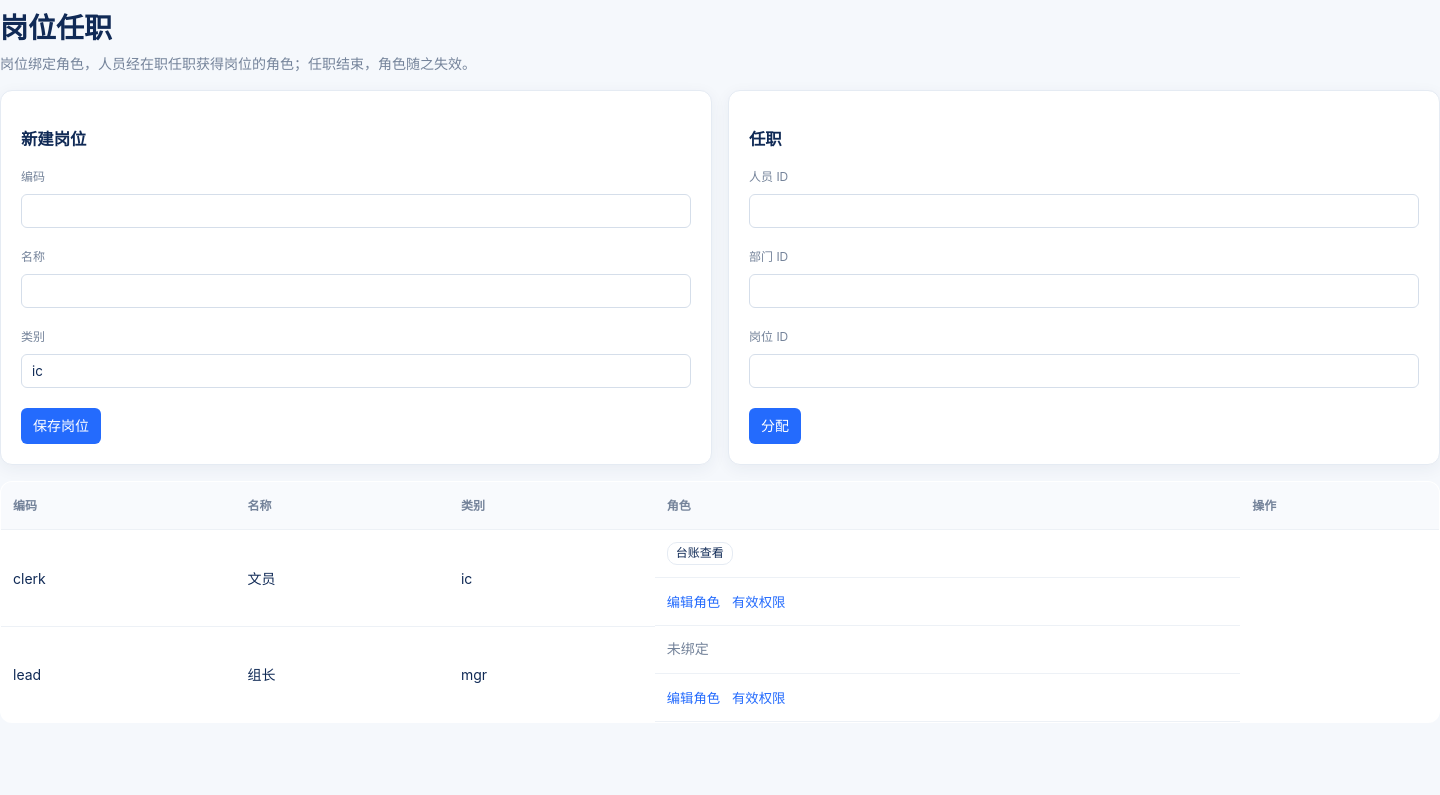
Test: PLA2 position ↔ role binding › shows each position's roles and replaces them from the editor
The image size is (1440, 795).
Expected: the row with test id "position-pos-1" shows "台账查看", [676,545,724,560]
Expected: the row with test id "position-pos-2" shows "未绑定", [667,640,709,657]
Step 1. Click the button "编辑角色" below "ic" → {"x": 693, "y": 602}, box [667,590,720,613]
(page scrolled)
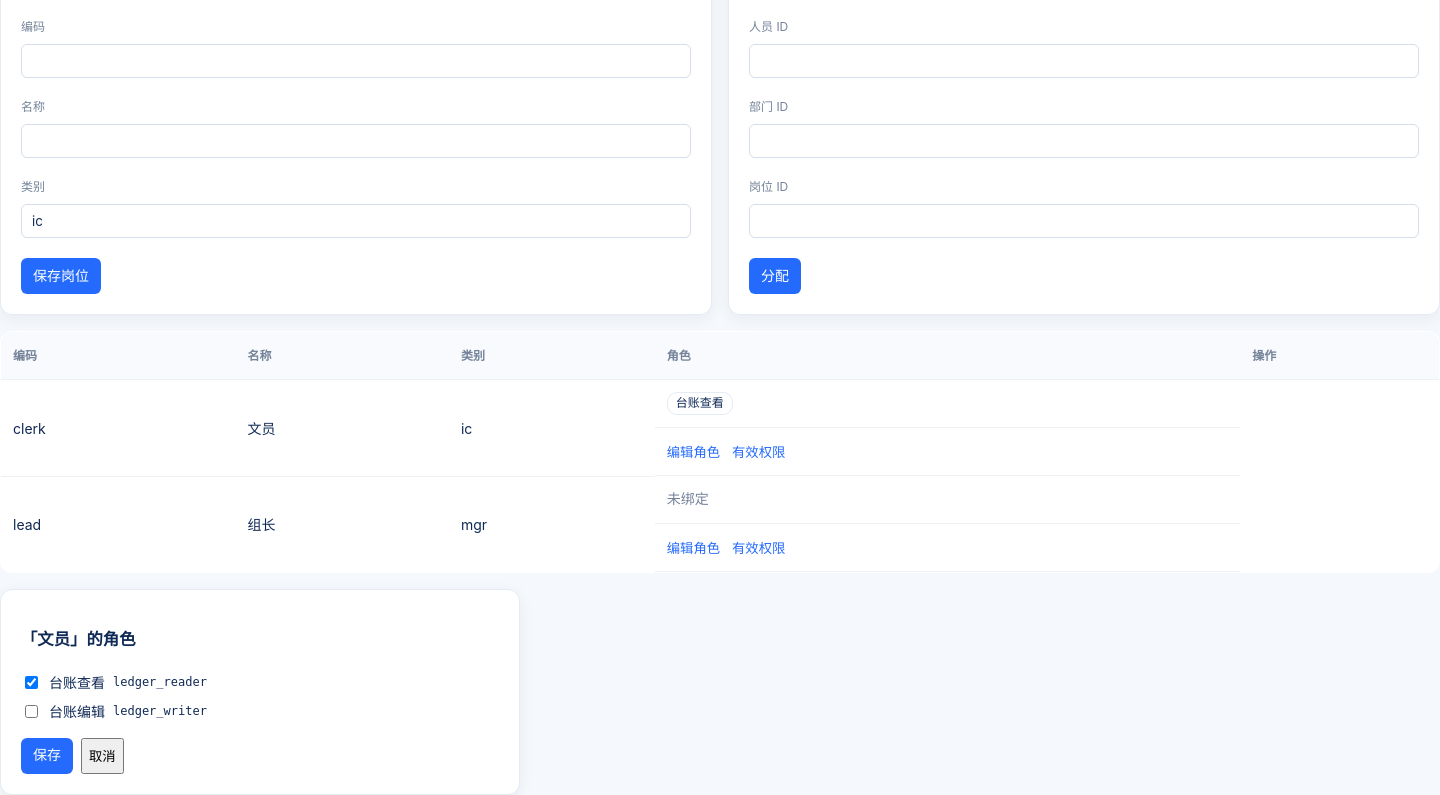
Step 2. Click the checkbox labelled "台账查看 ledger_reader" → {"x": 32, "y": 682}, box [25,676,38,689]
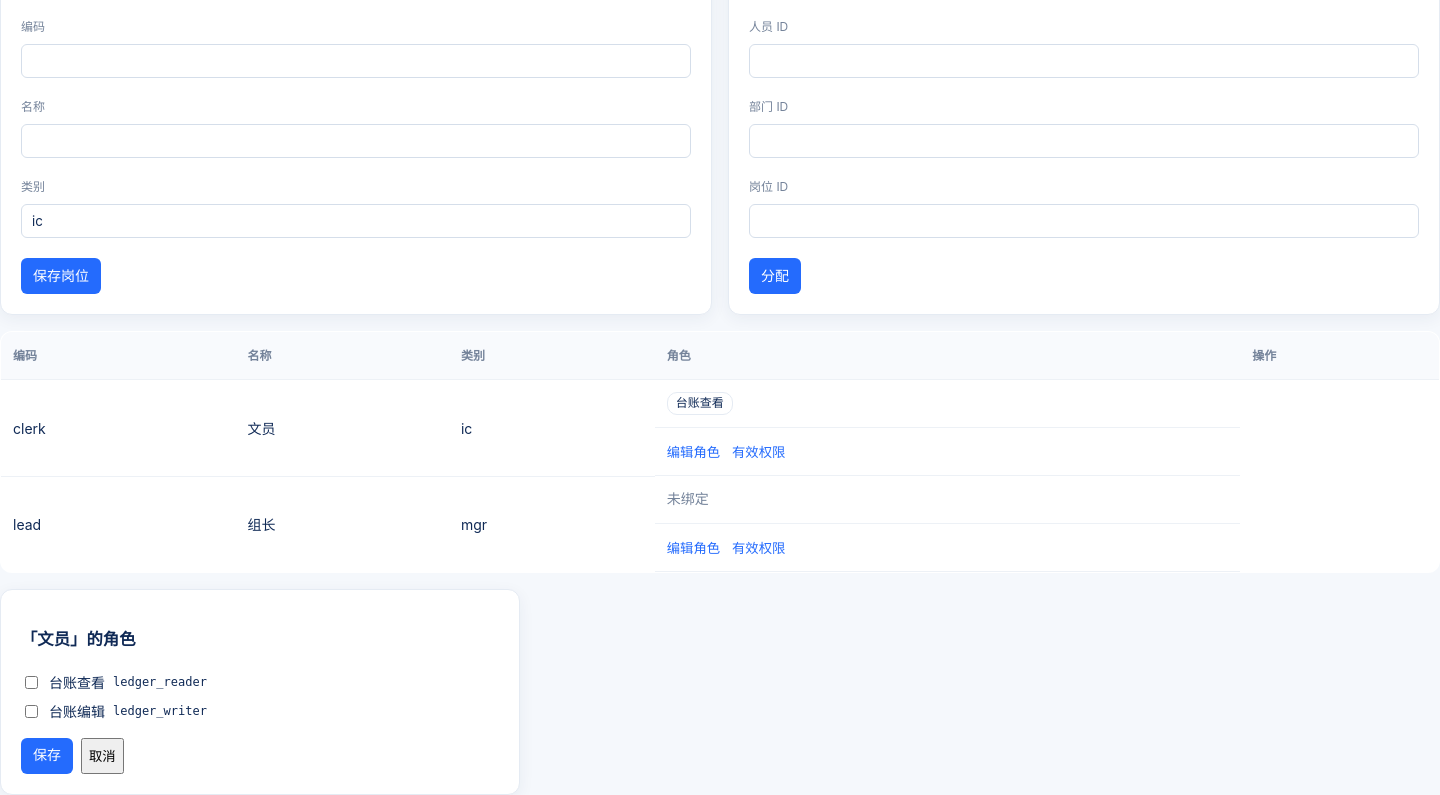
Step 3. Click the checkbox labelled "台账编辑 ledger_writer" → {"x": 32, "y": 711}, box [25,705,38,718]
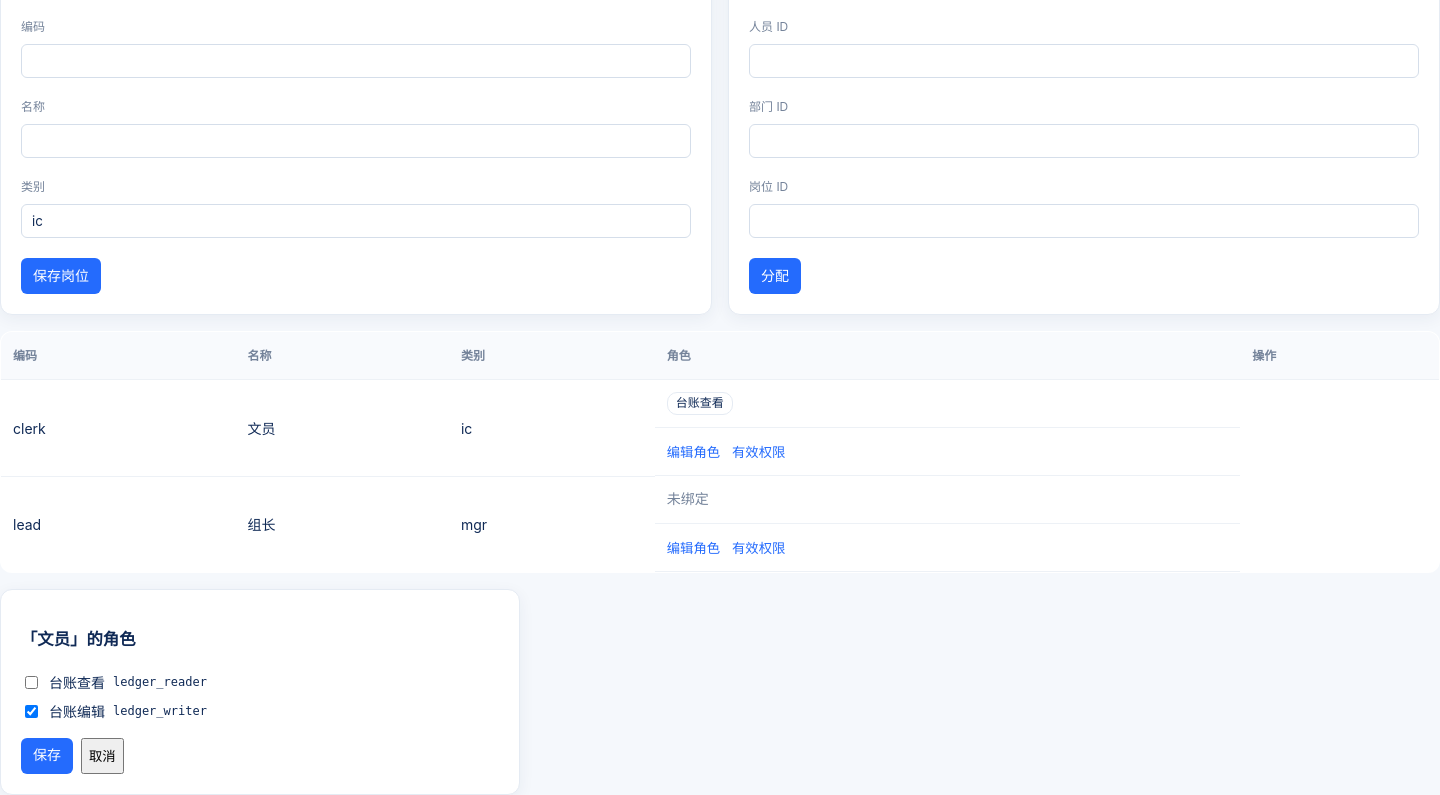
Step 4. Submit the form with test id "role-editor", box [0,589,520,794]
(page scrolled)
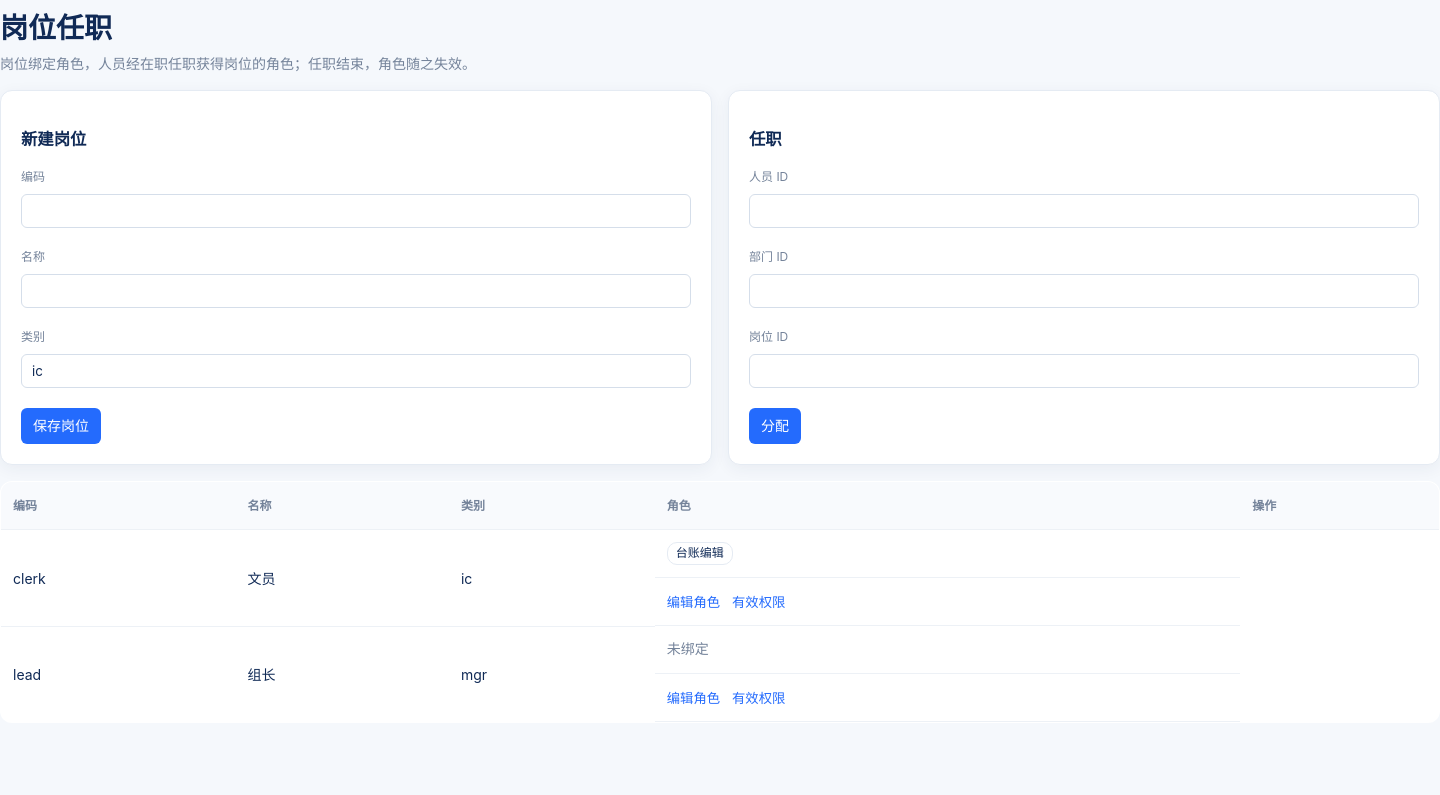
Result: the row with test id "position-pos-1" shows "台账编辑" at [676,545,724,560]
Result: the text with test id "position-pos-1" no longer shows "台账查看"
